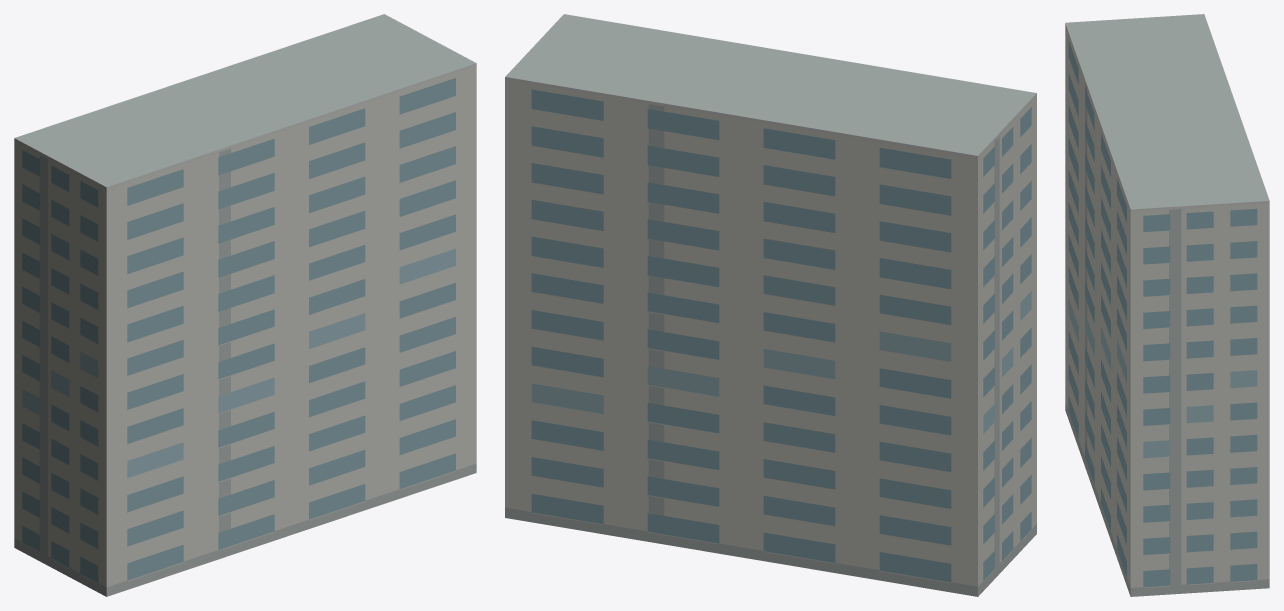
Rendered from residential-e0dac89b-bf8b-474c-9afe-ea0f7c408619.glb.
3 views of the same model, side by side, from view 1: azimuth 30°, elevation 25°; view 2: azimuth 150°, elevation 25°; view 3: azimuth 270°, elevation 25° (orthographic). The views are drawn at different scales.
Parts seen in each view (by area): view 1: residential-e0dac89b-bf8b-474c-9afe-ea0f7c408619.tmp; view 2: residential-e0dac89b-bf8b-474c-9afe-ea0f7c408619.tmp; view 3: residential-e0dac89b-bf8b-474c-9afe-ea0f7c408619.tmp.
Part boxes in pixels (<box>): residential-e0dac89b-bf8b-474c-9afe-ea0f7c408619.tmp: <box>14,14,476,596</box>; residential-e0dac89b-bf8b-474c-9afe-ea0f7c408619.tmp: <box>505,14,1036,596</box>; residential-e0dac89b-bf8b-474c-9afe-ea0f7c408619.tmp: <box>1065,14,1269,596</box>.
Bounding box in the file's own units: 37.88 × 35 × 16.75.
